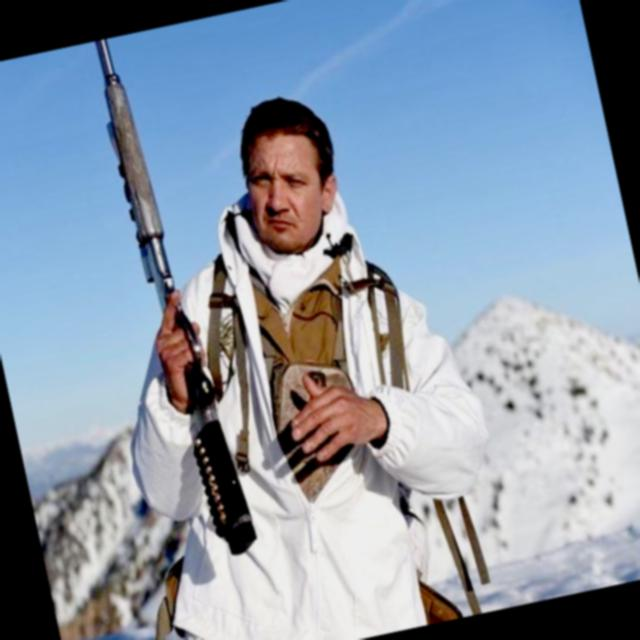shotgun: (68, 29, 272, 613)
